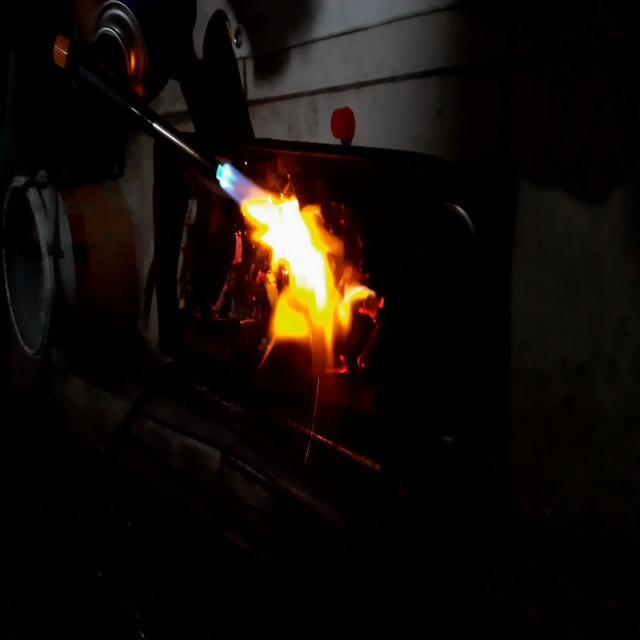Fire: (215, 152, 372, 381)
